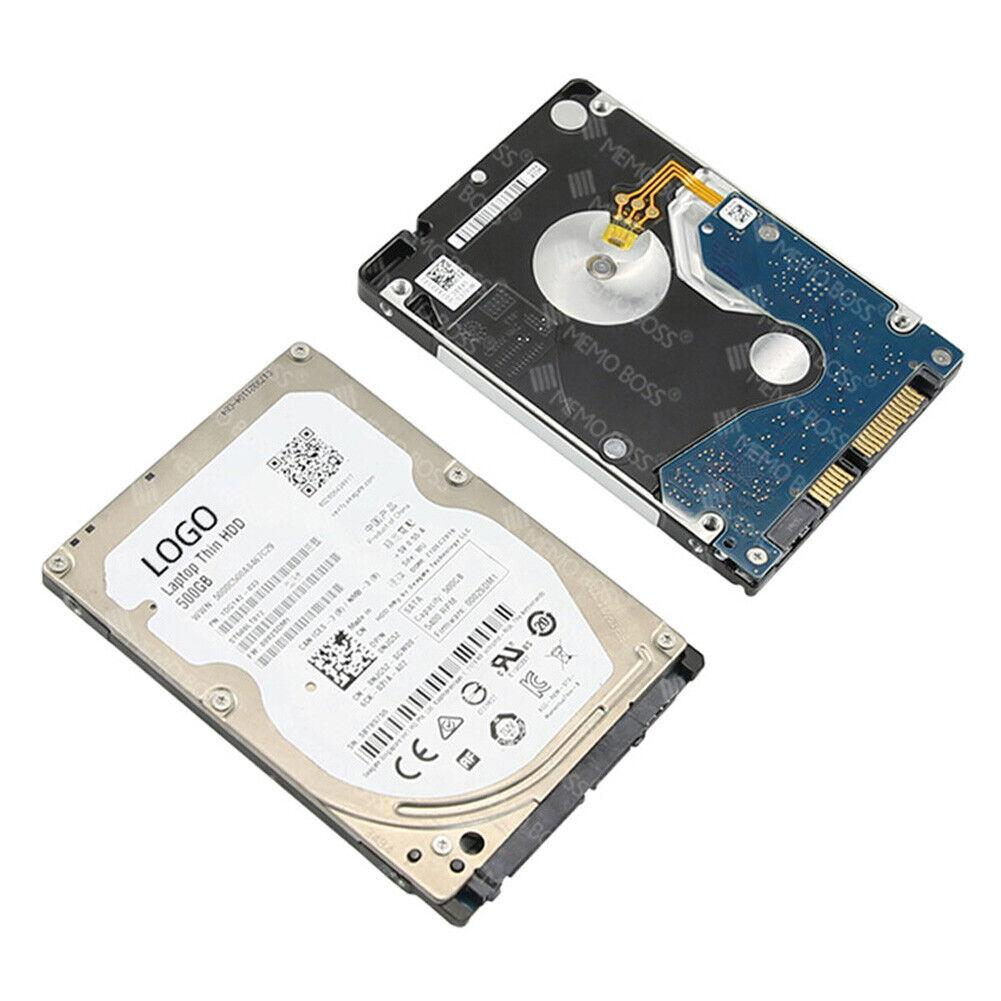internal HDD: (41, 344, 704, 929), (353, 79, 965, 599)
